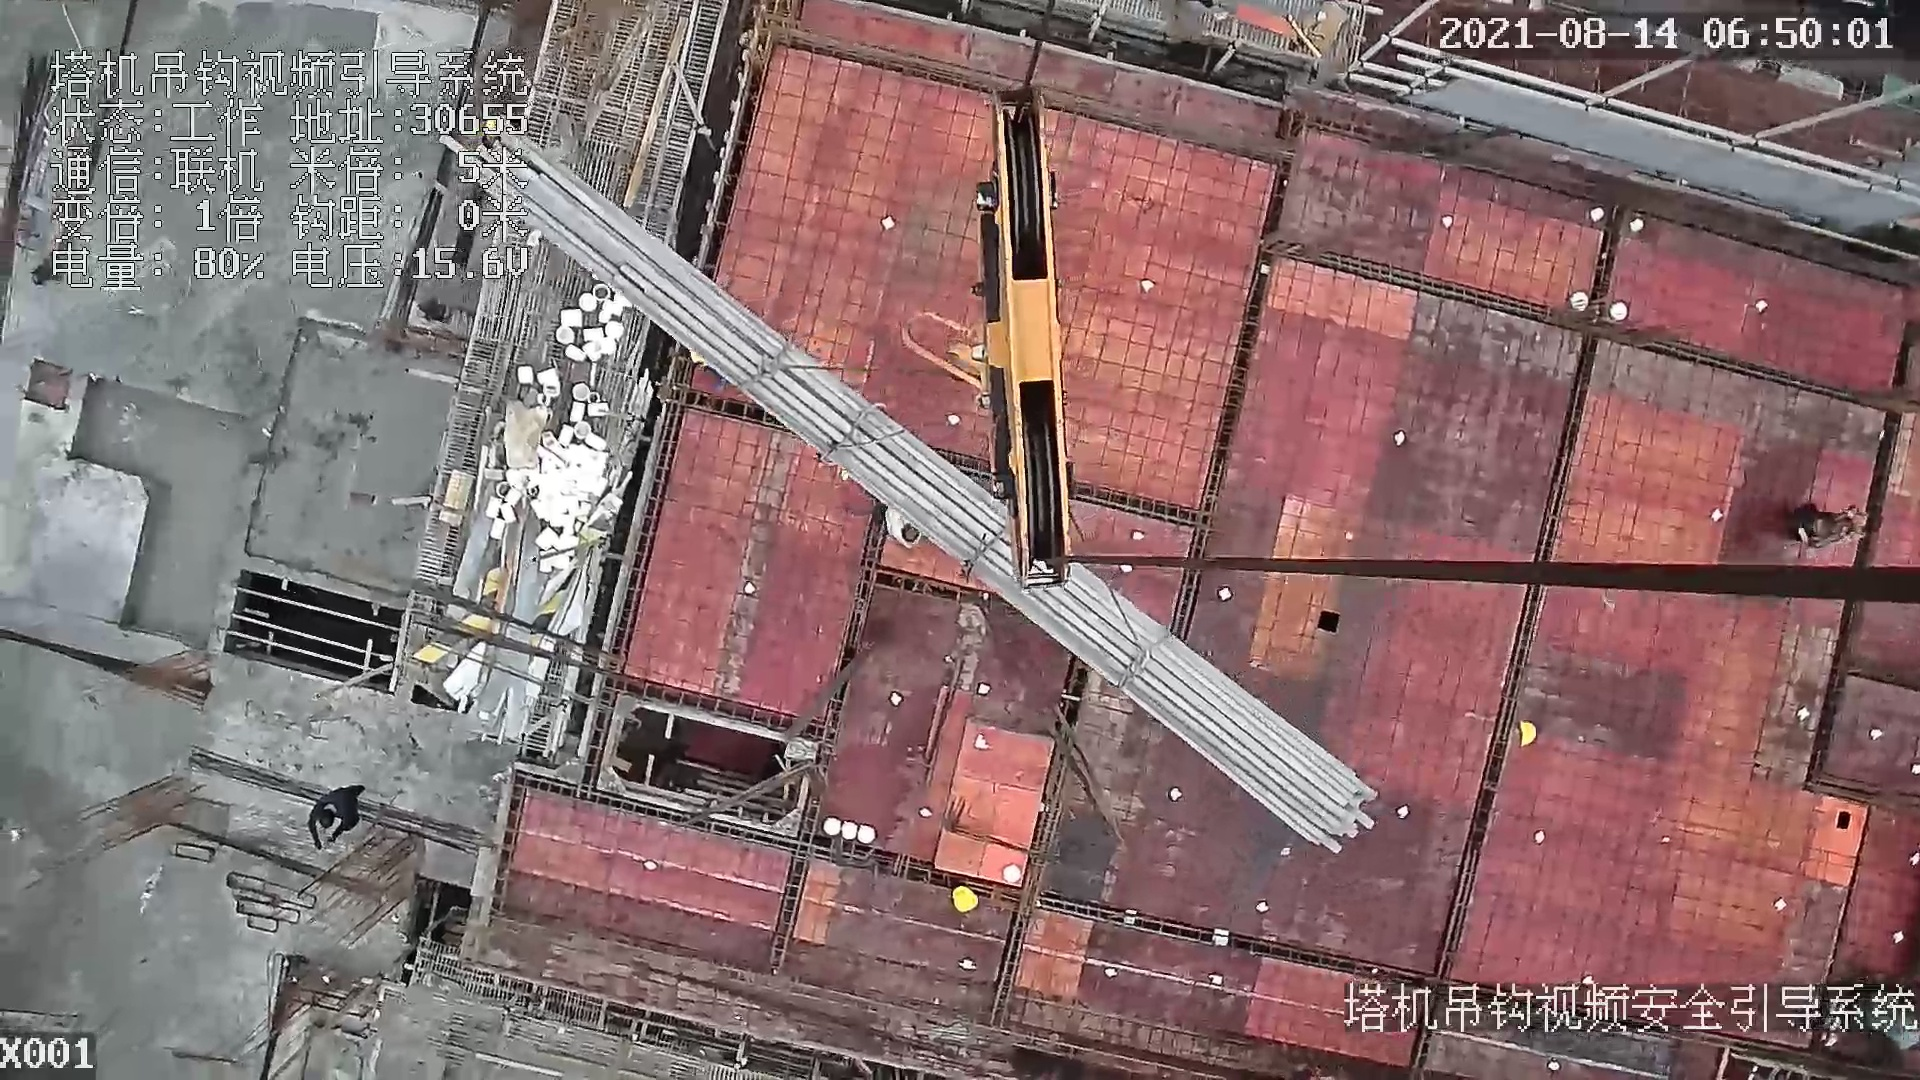helmet: (1508, 714, 1553, 761), (945, 875, 985, 919)
hook: (906, 80, 1074, 587)
person: (304, 778, 369, 850)
